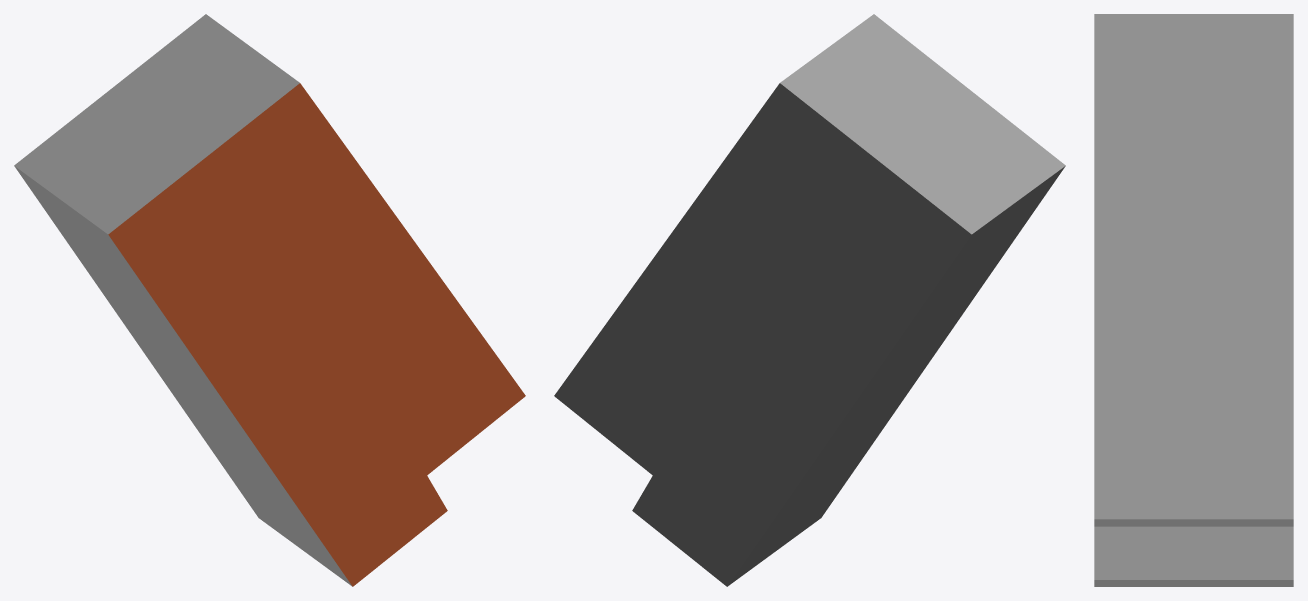
File: construction_4138_assumed_A_Casa_h6m.obj
3 views of the same model, side by side, from view 1: azimuth 30°, elevation 25°; view 2: azimuth 150°, elevation 25°; view 3: azimuth 270°, elevation 25° (orthographic). The views are drawn at different scales.
Parts seen in each view (by area): view 1: construction_4138_assumed_A_Casa; view 2: construction_4138_assumed_A_Casa; view 3: construction_4138_assumed_A_Casa.
Boxes of the visible parts, left/top/right/bottom form: construction_4138_assumed_A_Casa: left=14, top=14, right=525, bottom=586; construction_4138_assumed_A_Casa: left=554, top=14, right=1065, bottom=586; construction_4138_assumed_A_Casa: left=1094, top=14, right=1293, bottom=586.
Size of the model in its own units: 15.36 by 18.16 by 6.
